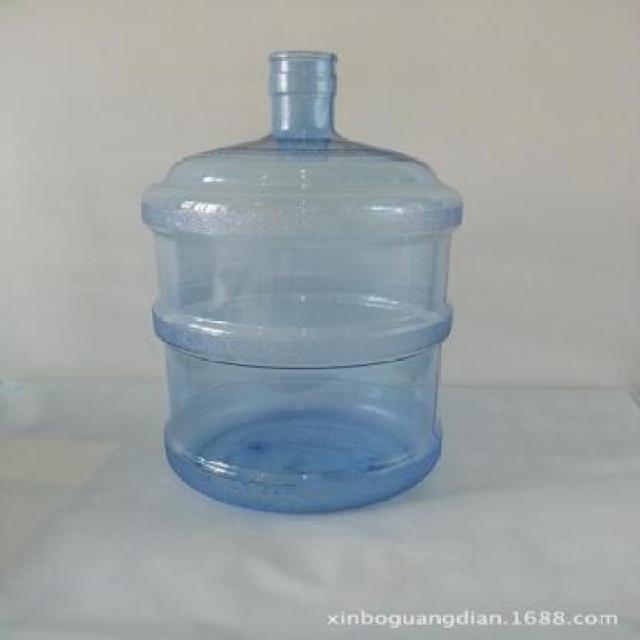coolerbottle: (136, 41, 472, 522)
